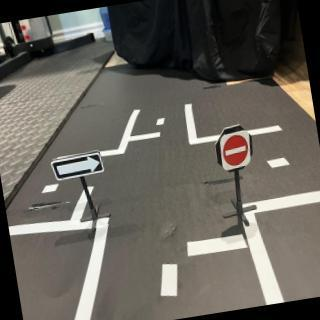sign_noentry: (220, 132, 255, 171)
sign_oneway_right: (50, 150, 108, 184)
